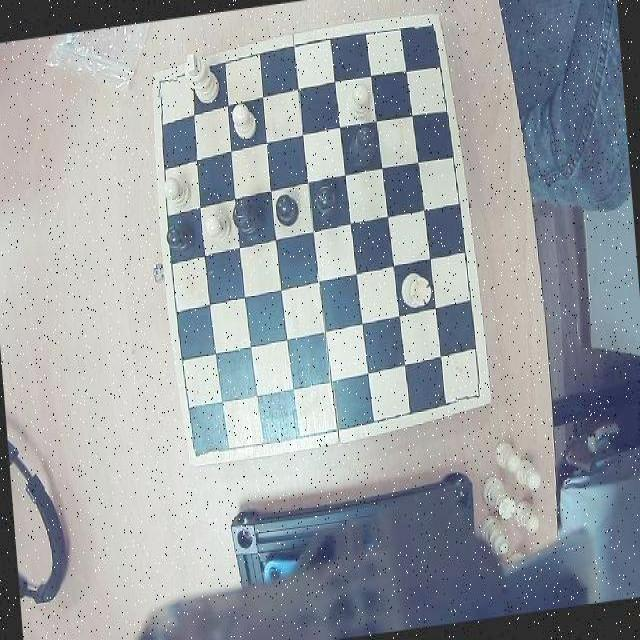chess-table-corners: (456, 373, 490, 408), (187, 432, 220, 464), (415, 17, 444, 47), (152, 69, 179, 100)
